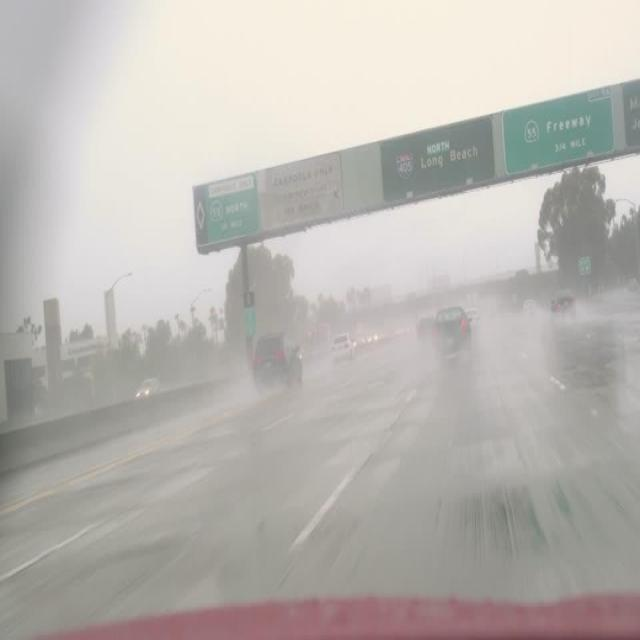Car: (250, 326, 306, 395), (428, 305, 474, 363), (327, 324, 355, 368), (134, 368, 161, 408)
